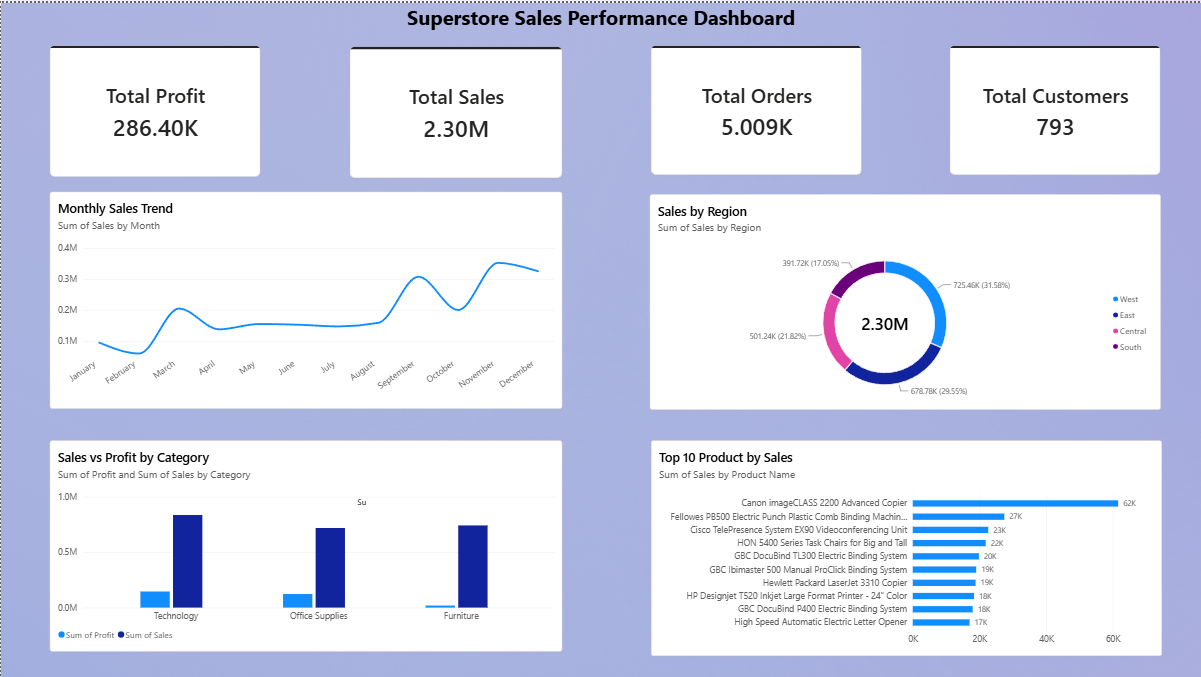

This screenshot's page, from the dashboard's own definition file:
{"tool":"powerbi","page":{"name":"Page 1","canvas":[1920,1080],"ordinal":0},"visuals":[{"type":"cardVisual","fields":{"Data":["Sum(superstore.Sales)"]},"box":[557.5,70,340,210],"z":0},{"type":"cardVisual","fields":{"Data":["Sum(superstore.Profit)"]},"box":[77.5,67.5,337.5,210],"z":1},{"type":"cardVisual","fields":{"Data":["Count(superstore.Order ID)"]},"box":[1040,67.5,337.5,207.5],"z":2},{"type":"cardVisual","fields":{"Data":["Count(superstore.Customer ID)"]},"box":[1517.5,67.5,337.5,207.5],"z":3},{"type":"lineChart","title":"Monthly Sales Trend","fields":{"Category":["superstore.Order Date.Variation.Date Hierarchy.Month"],"Y":["Sum(superstore.Sales)"]},"box":[77.5,302.5,820,347.5],"z":4},{"type":"clusteredColumnChart","title":"Sales vs Profit by Category","fields":{"Category":["superstore.Category"],"Y":["Sum(superstore.Profit)","Sum(superstore.Sales)"]},"box":[77.5,700,820,337.5],"z":5},{"type":"donutChart","title":"Sales by Region","fields":{"Category":["superstore.Region"],"Y":["Sum(superstore.Sales)"]},"box":[1037.5,305,817.5,345],"z":6},{"type":"clusteredBarChart","title":"Top 10 Product by Sales","fields":{"Category":["superstore.Product Name"],"Y":["Sum(superstore.Sales)"]},"box":[1040,700,817.5,345],"z":7},{"type":"textbox","box":[570,788,309,200],"z":11},{"type":"textbox","box":[0,0,1920,70],"z":12},{"type":"textbox","box":[399,424,171,346],"z":13}]}

Visuals, with their boxes in screenshot pixels (x1, y1, x2, y2), scaled from the page's 1920x1080 canvas onto the 1201x677 screenshot:
cardVisual - Sum(superstore.Sales): region(349, 44, 561, 176)
cardVisual - Sum(superstore.Profit): region(48, 42, 260, 174)
cardVisual - Count(superstore.Order ID): region(651, 42, 862, 172)
cardVisual - Count(superstore.Customer ID): region(949, 42, 1160, 172)
"Monthly Sales Trend" lineChart: region(48, 190, 561, 407)
"Sales vs Profit by Category" clusteredColumnChart: region(48, 439, 561, 650)
"Sales by Region" donutChart: region(649, 191, 1160, 407)
"Top 10 Product by Sales" clusteredBarChart: region(651, 439, 1162, 655)
textbox: region(357, 494, 550, 619)
textbox: region(0, 0, 1200, 44)
textbox: region(250, 266, 357, 483)
